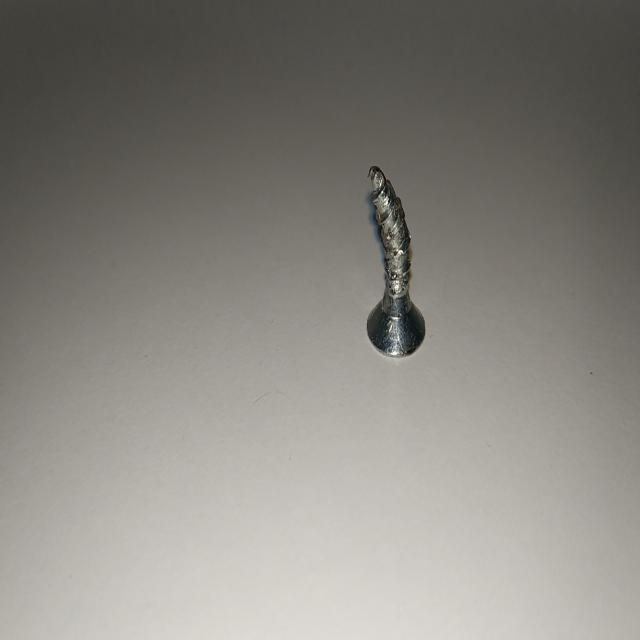Screw: (367, 165, 426, 356)
